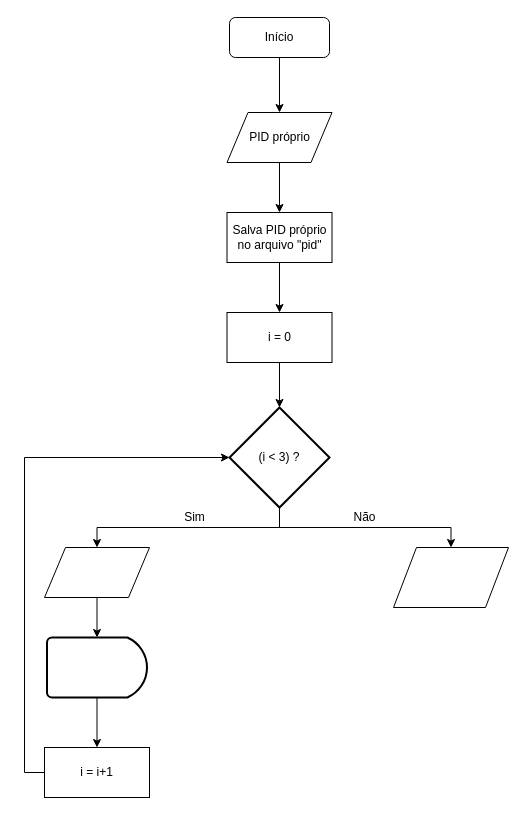
The diagram is 526 pixels wide and 815 high, and some of its shapes have lost their labels. Here are the shapes that lost their labels. From the top down, the box of each, then its label:
(44, 546, 150, 598): "I am alive"
(392, 546, 508, 608): "I gonna die now, bye"
(46, 636, 148, 698): Aguarda x segundos
